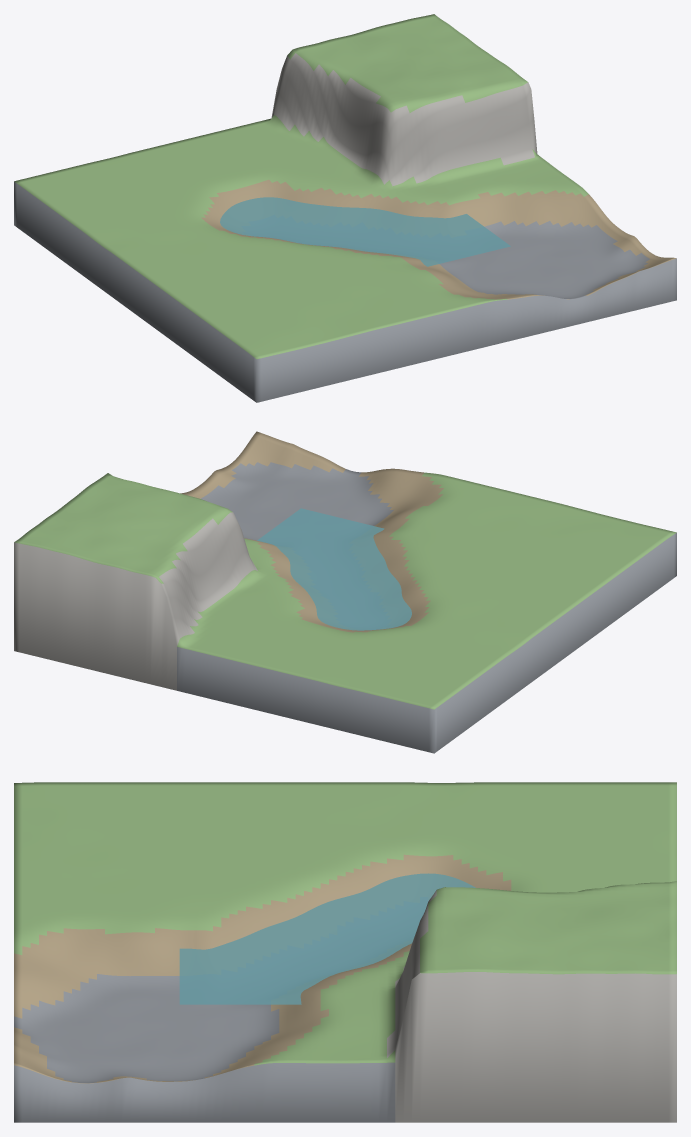
File: terrain_material.glb
The picture shows the model from 3 angles, top to bottom: view 1: azimuth 30°, elevation 25°; view 2: azimuth 150°, elevation 25°; view 3: azimuth 270°, elevation 25°; orthographic projection. The views are drawn at different scales.
Parts seen in each view (by area): view 1: terrain_sculpt, terrain_water; view 2: terrain_sculpt, terrain_water; view 3: terrain_sculpt, terrain_water.
Part boxes in pixels (<box>): terrain_sculpt: <box>14,14,676,402</box>; terrain_water: <box>220,197,510,266</box>; terrain_sculpt: <box>14,431,676,753</box>; terrain_water: <box>257,508,411,630</box>; terrain_sculpt: <box>14,782,676,1122</box>; terrain_water: <box>179,873,475,1004</box>.
Size of the model in its own units: 20 by 5.07 by 20.
